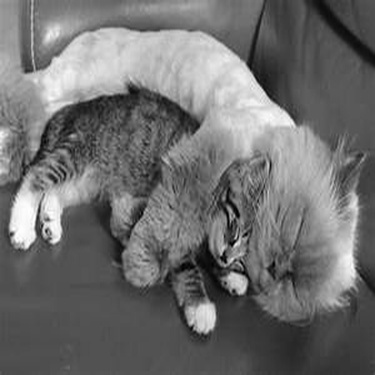cat: (1, 15, 365, 341), (14, 88, 267, 345)
